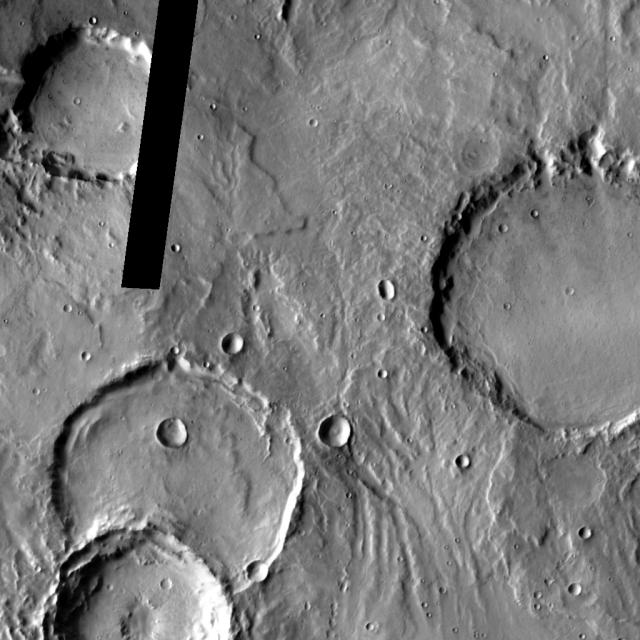crater: (53, 360, 304, 606), (434, 148, 640, 436), (13, 27, 173, 184), (45, 532, 234, 640), (546, 451, 608, 513), (319, 417, 352, 449), (160, 420, 190, 449), (250, 562, 271, 582), (223, 334, 243, 354), (378, 282, 398, 301), (456, 455, 471, 468), (578, 527, 592, 540), (569, 584, 581, 596), (164, 578, 175, 589), (170, 244, 180, 254), (378, 370, 387, 380), (328, 630, 337, 640), (82, 353, 91, 362), (499, 224, 508, 233), (342, 584, 351, 592), (310, 120, 318, 128), (171, 346, 179, 354), (64, 306, 72, 314), (74, 98, 82, 106), (531, 210, 539, 218), (378, 314, 386, 321), (566, 289, 574, 296), (366, 623, 374, 630), (32, 387, 40, 394), (546, 578, 553, 586), (552, 557, 560, 564), (326, 596, 333, 604), (331, 620, 338, 628), (420, 235, 427, 242), (535, 592, 542, 599), (439, 586, 446, 593), (86, 10, 94, 16), (197, 134, 204, 140), (253, 305, 260, 311), (304, 603, 311, 609), (422, 326, 428, 332), (298, 529, 304, 535)
